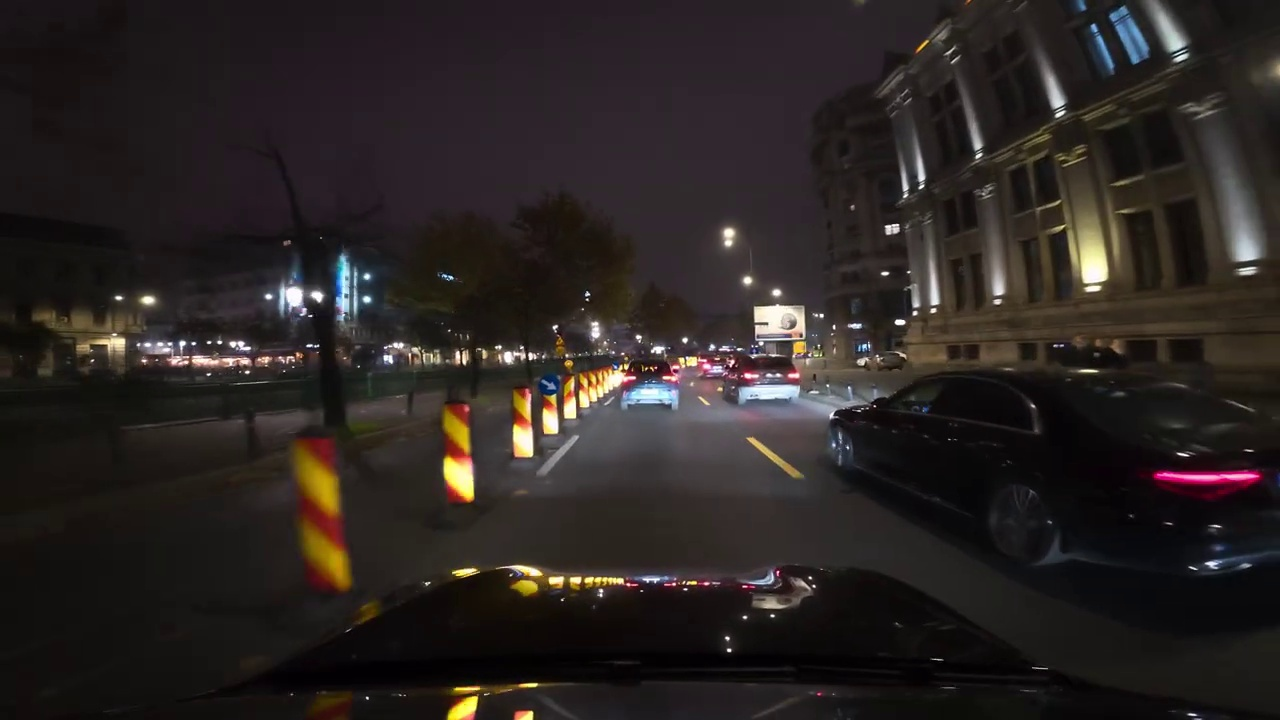acesa: (718, 224, 740, 250), (137, 292, 160, 313), (740, 271, 757, 291)
